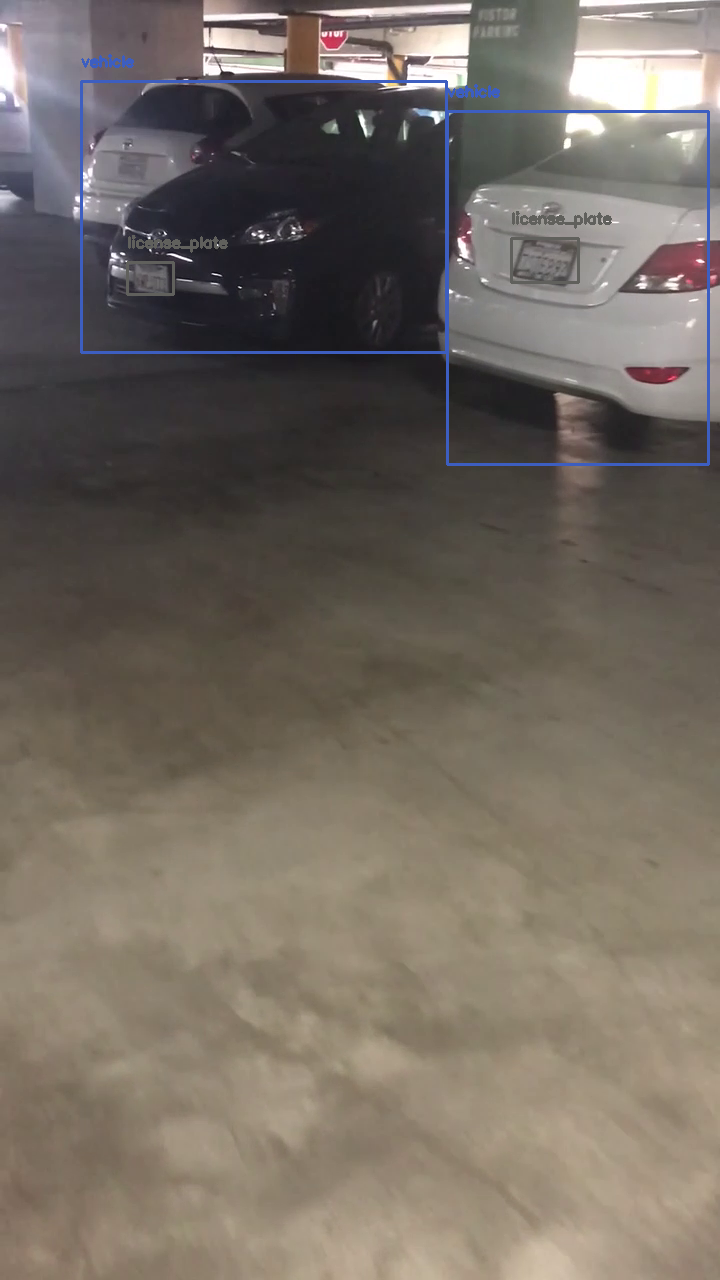license_plate: (511, 238, 578, 282), (127, 262, 173, 294)
vehicle: (81, 81, 446, 352), (447, 111, 708, 464)
